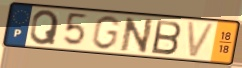5: (62, 12, 89, 49)
B: (150, 19, 184, 57)
G: (90, 15, 122, 52)
N: (119, 16, 156, 55)
Q: (29, 9, 61, 47)
V: (185, 20, 218, 59)
